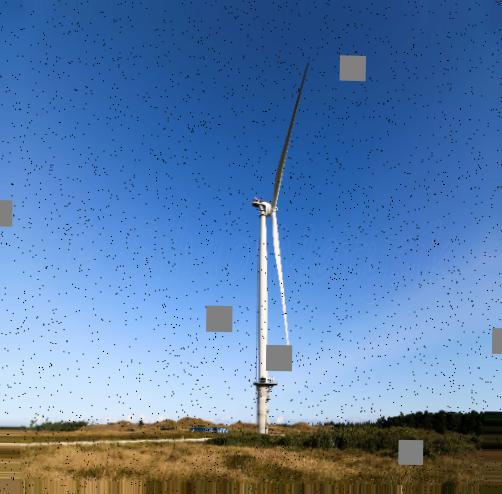wind turbine: (249, 62, 310, 440)
